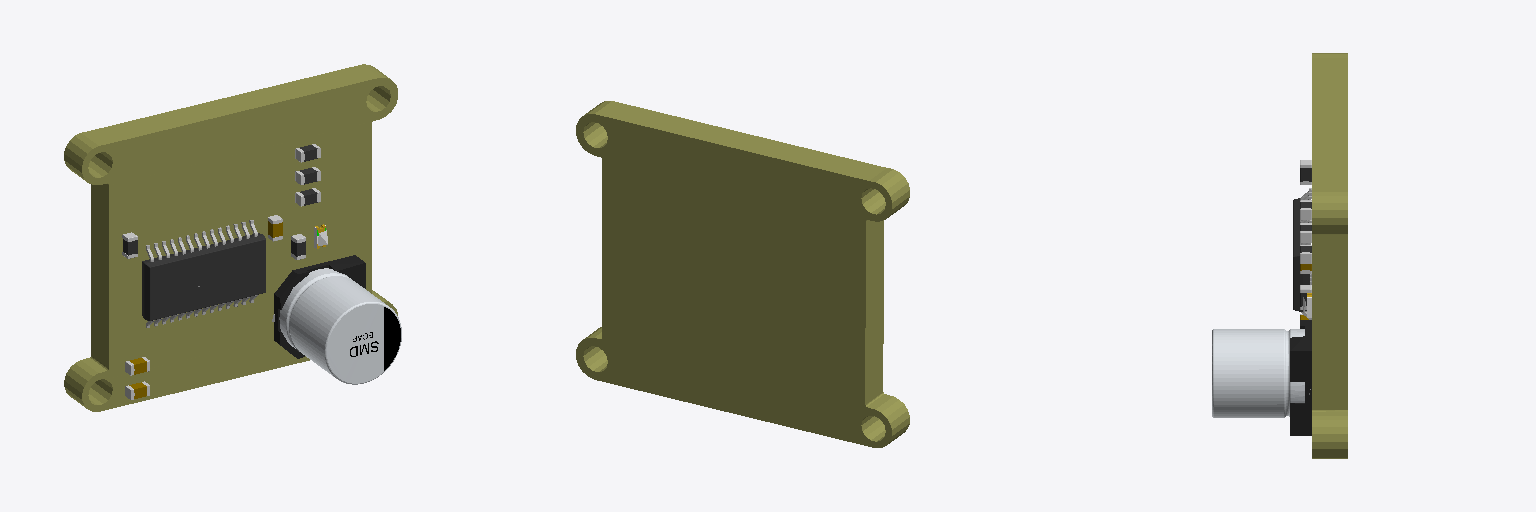
The model's file is OBJ_simplefocmini.obj.
The picture shows the model from 3 angles: view 1: azimuth 30°, elevation 25°; view 2: azimuth 150°, elevation 25°; view 3: azimuth 270°, elevation 25°; orthographic projection.
Bounding box in the file's own units: 101 × 81.43 × 37.56.